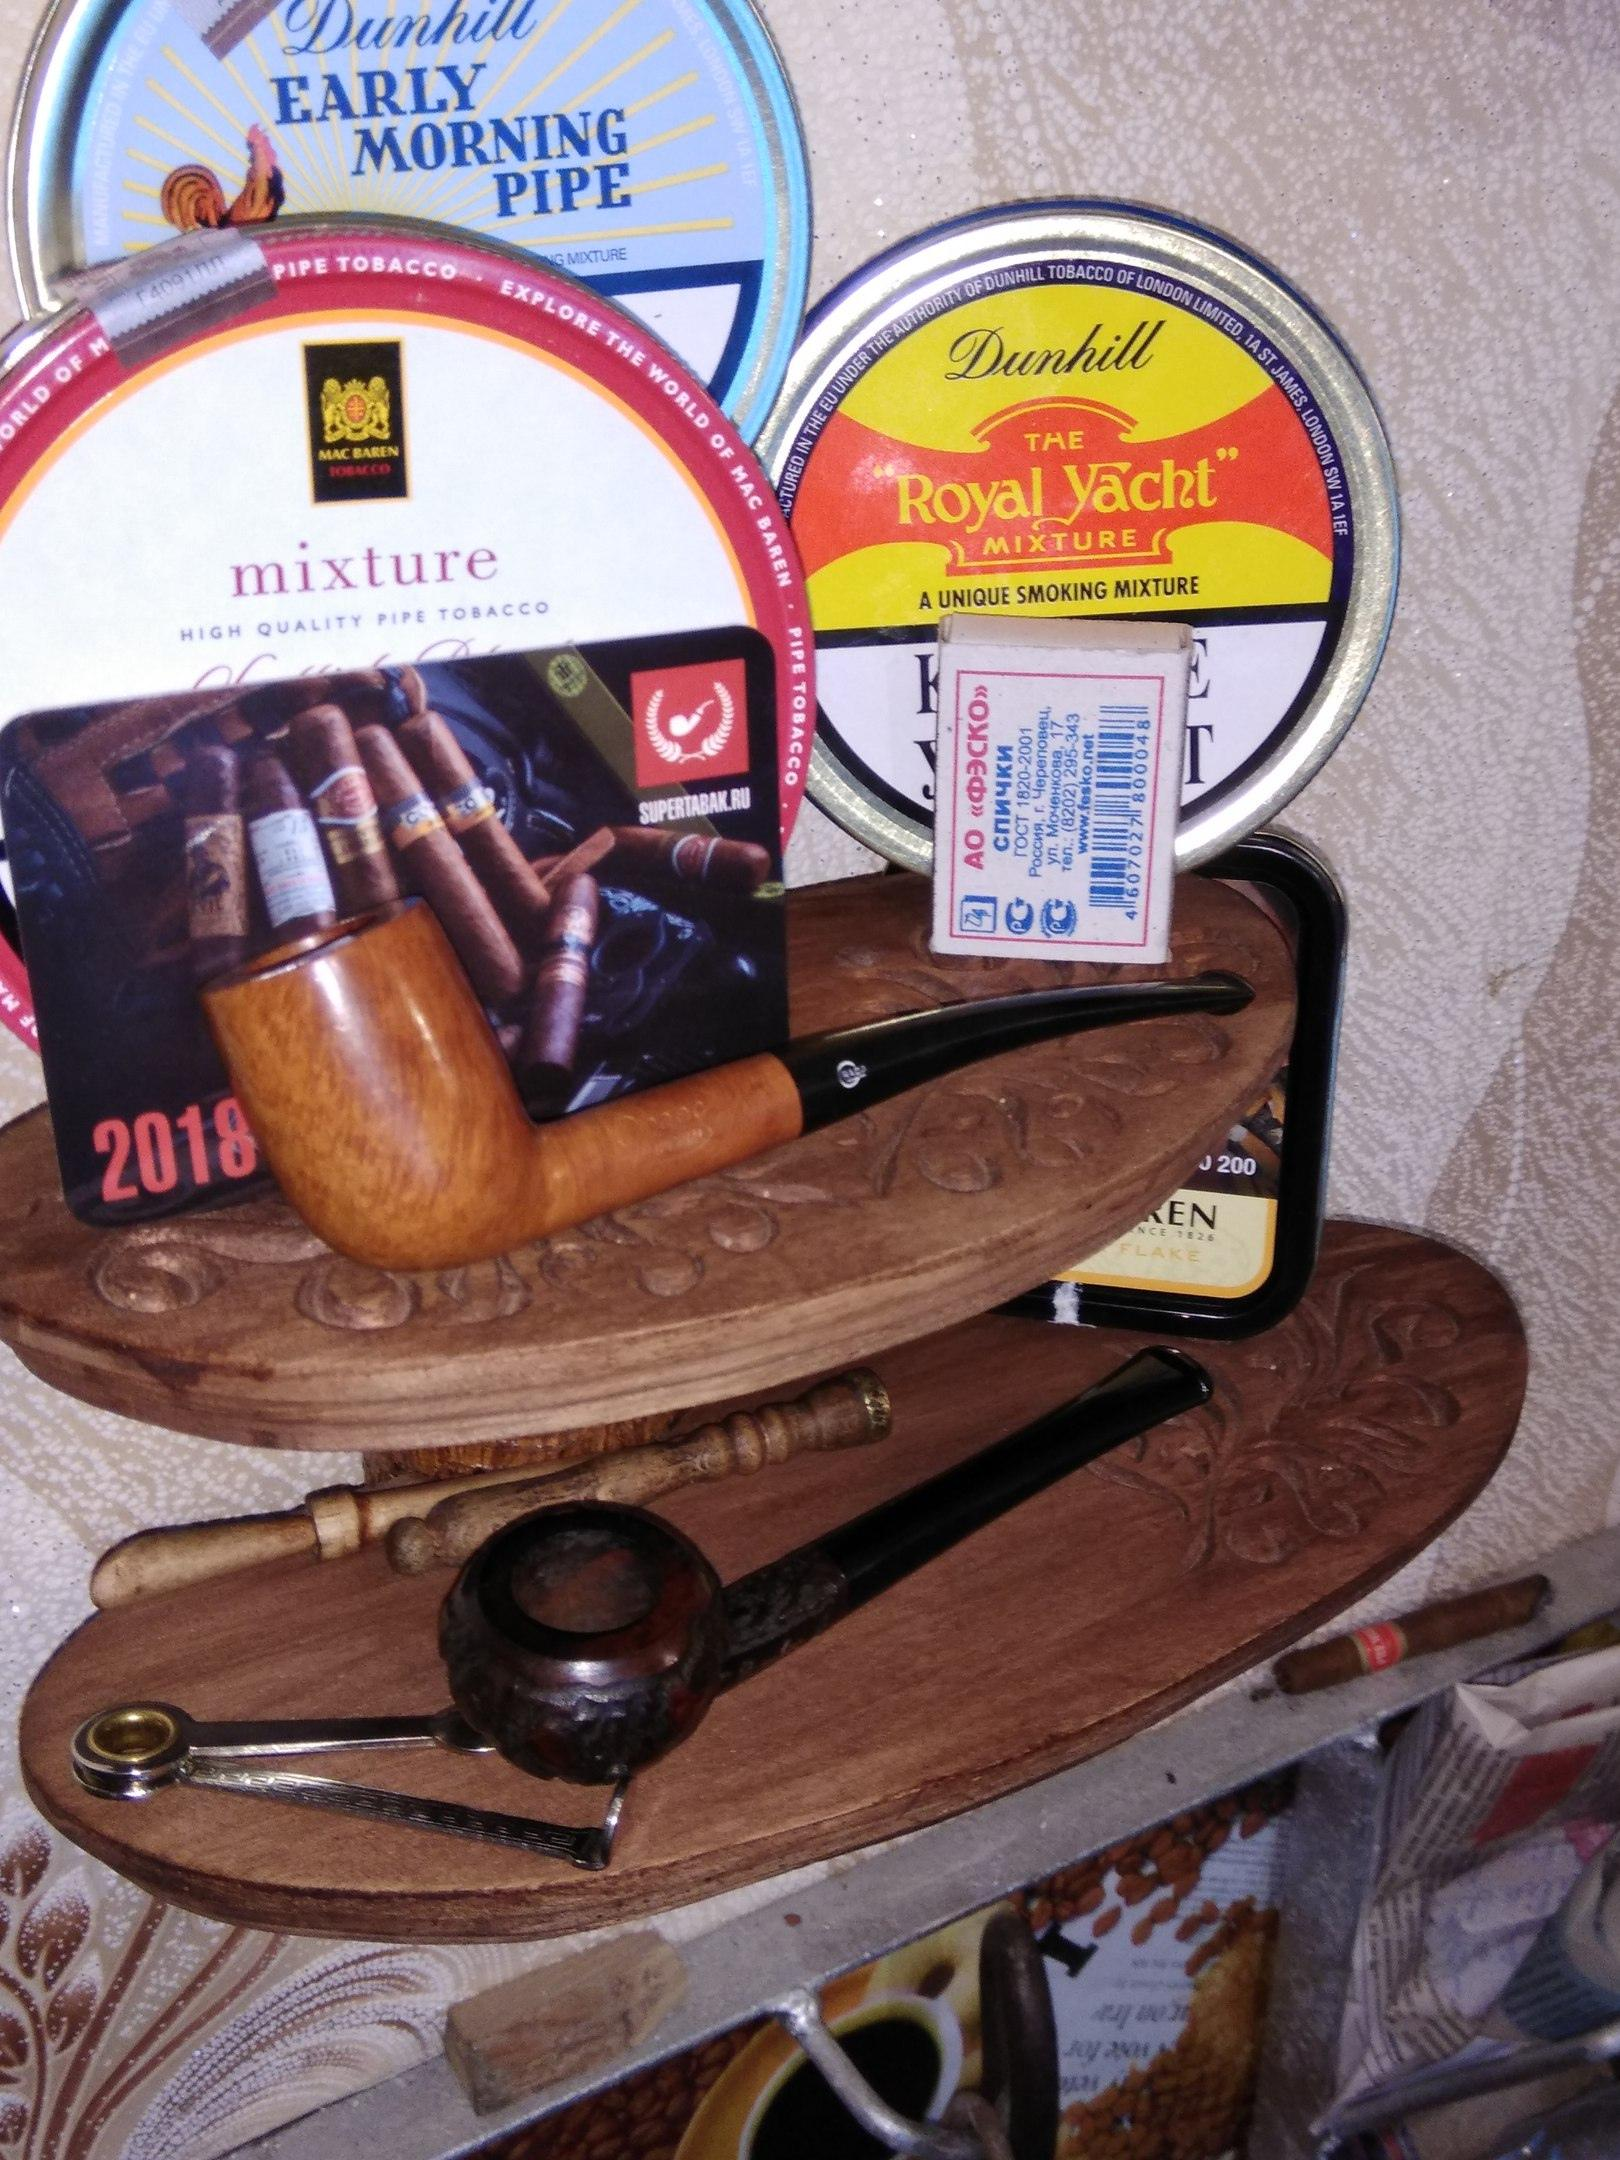trubka: (202, 900, 1252, 1270), (439, 1350, 1210, 1788)
